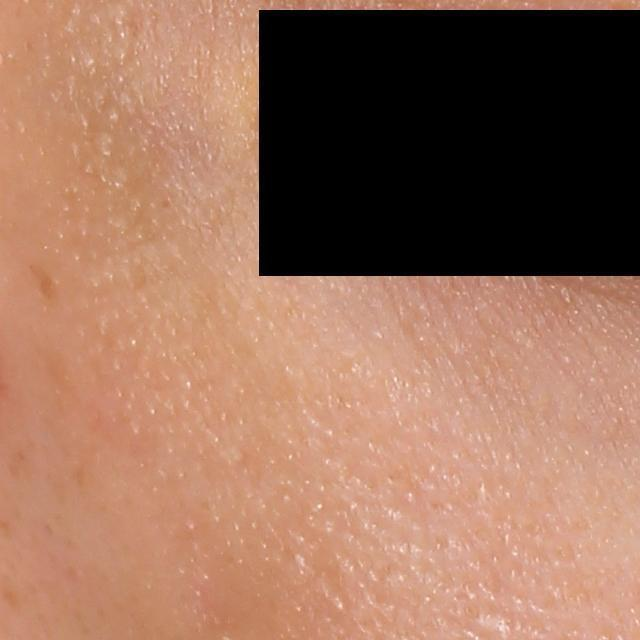comedo: (231, 447, 251, 464)
melasma: (26, 261, 64, 307)
